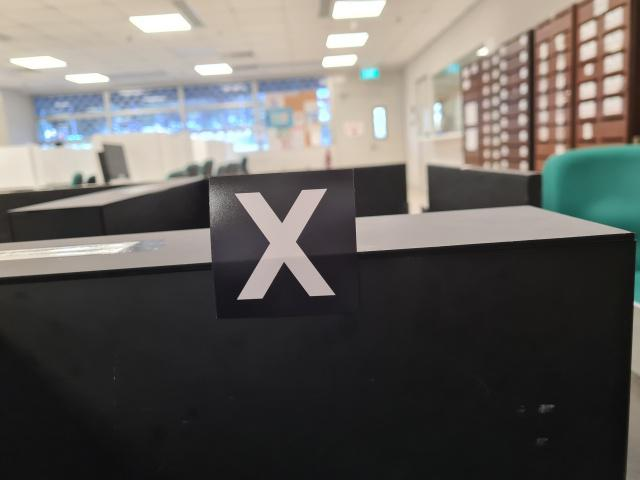x: (209, 171, 359, 319)
